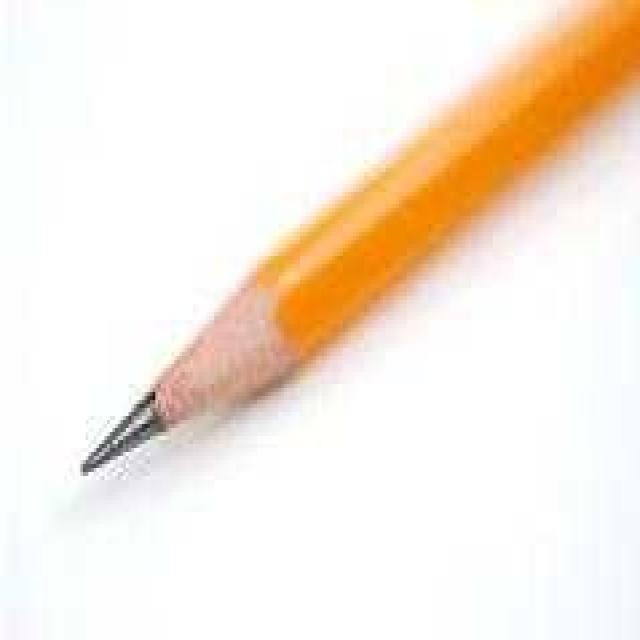pencil: (49, 0, 637, 510)
